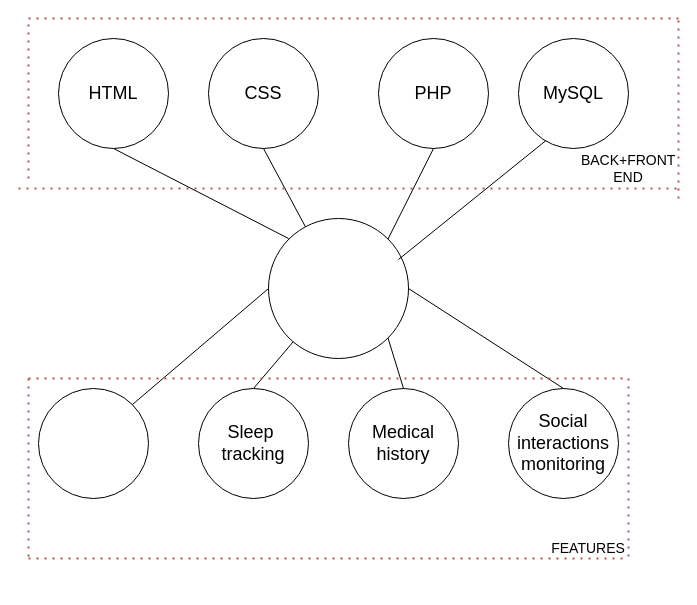
This 697x605 diagram has some shape labels left out. Each missing label, with the centre of its shape:
"Baby Info Manager" goes at point (338, 288).
"Diet" goes at point (93, 443).
